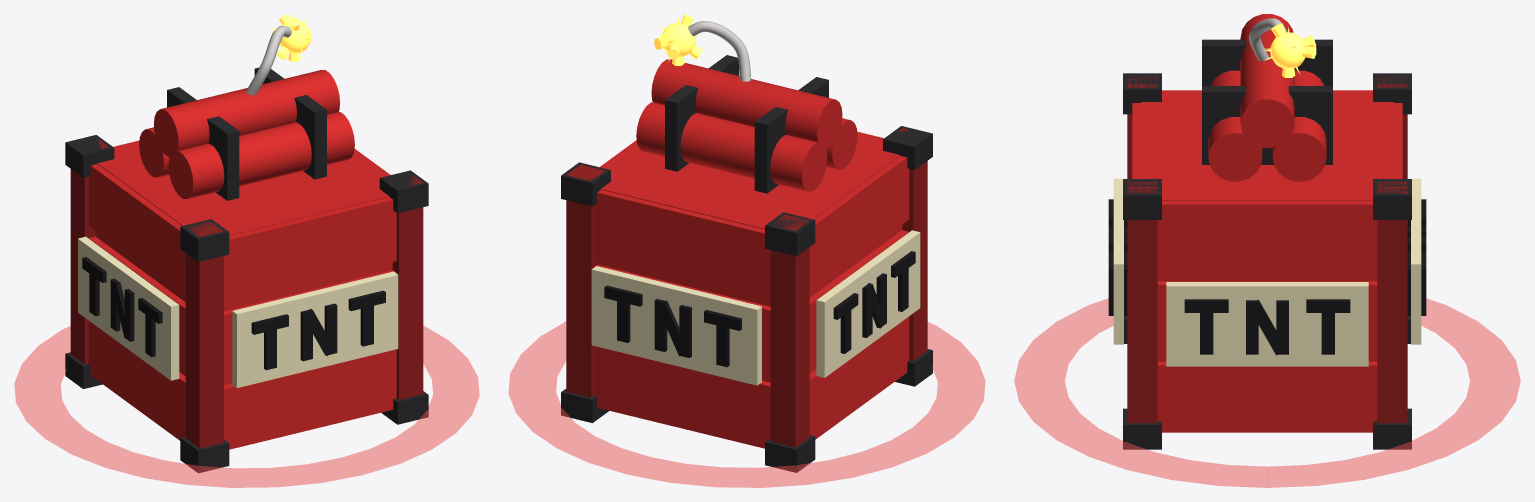
Rendered from tnt.glb.
3 views of the same model, side by side, from view 1: azimuth 30°, elevation 25°; view 2: azimuth 150°, elevation 25°; view 3: azimuth 270°, elevation 25° (orthographic). The views are drawn at different scales.
Parts seen in each view (by area): view 1: TntTrap; view 2: TntTrap; view 3: TntTrap.
Boxes of the visible parts, x1,y1,x2,y2 form: TntTrap: (14,14,479,487); TntTrap: (508,14,985,487); TntTrap: (1014,14,1520,487).
Bounding box in the file's own units: 0.6 × 0.5135 × 0.6.
